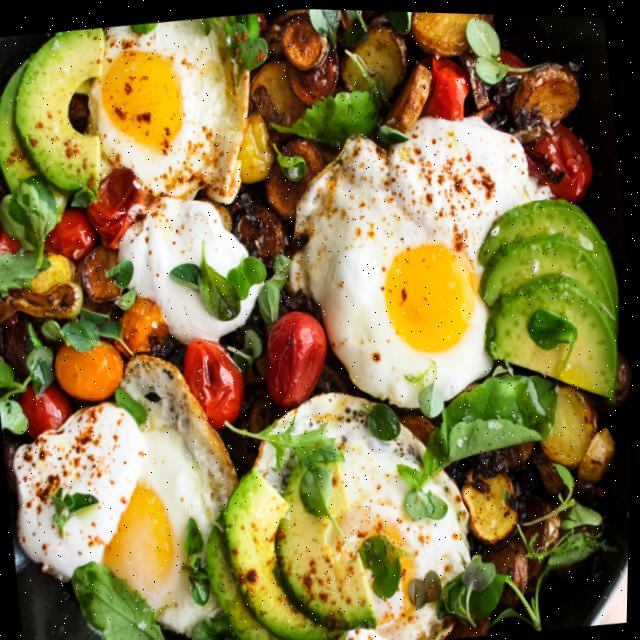Egg: (290, 113, 544, 405), (15, 356, 238, 634), (272, 391, 473, 639), (89, 17, 250, 202), (257, 439, 298, 493)
